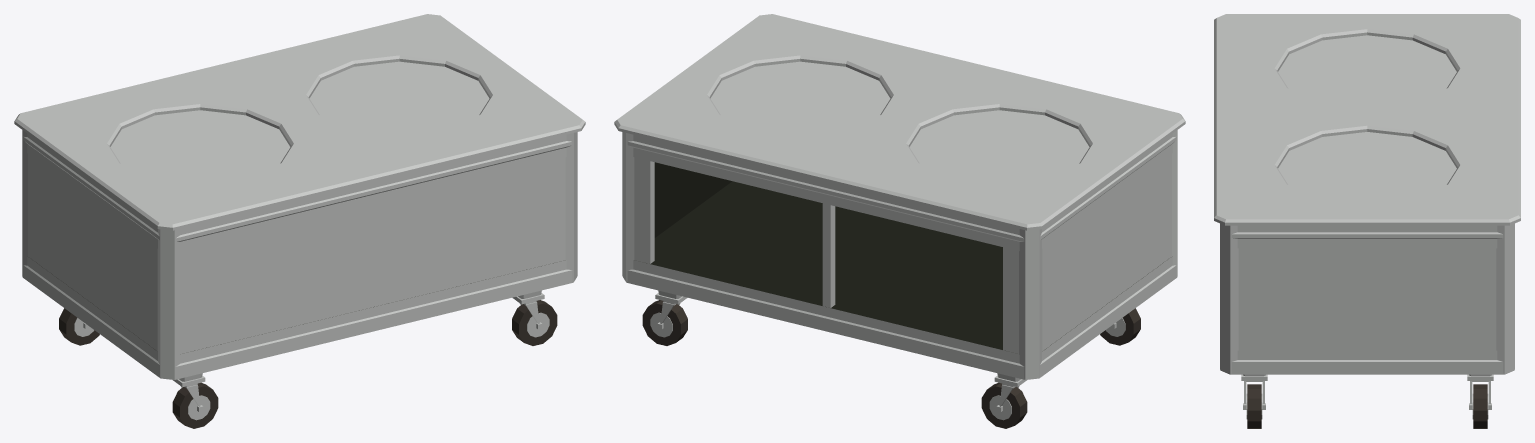
The model's file is SM_Cart_BaoBody_02.fbx.
3 views of the same model, side by side, from view 1: azimuth 30°, elevation 25°; view 2: azimuth 150°, elevation 25°; view 3: azimuth 270°, elevation 25° (orthographic).
Visible parts, largest first — view 1: SM_Cart_BaoBody_02; view 2: SM_Cart_BaoBody_02; view 3: SM_Cart_BaoBody_02.
Boxes of the visible parts, box(x1,y1,x2,y2) form: SM_Cart_BaoBody_02: box(14, 14, 585, 428); SM_Cart_BaoBody_02: box(614, 14, 1185, 428); SM_Cart_BaoBody_02: box(1214, 14, 1520, 428).
Size of the model in its own units: 1.56 by 0.786 by 0.978.
1 material, 1 textured.
